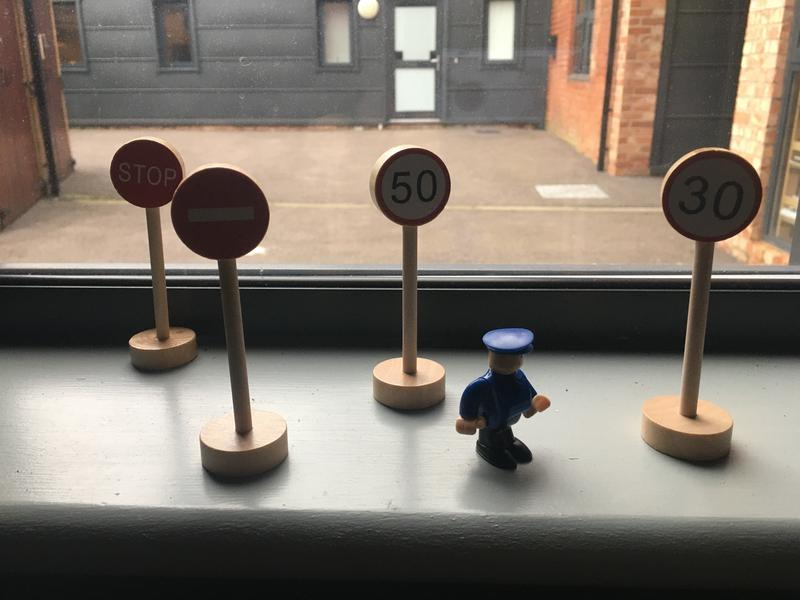Traffic_Sign_30: (664, 152, 760, 240)
Traffic_Sign_50: (374, 147, 450, 227)
Traffic_Sign_No_Entry: (173, 169, 269, 257)
Traffic_Sign_Stop: (107, 143, 182, 206)
person: (455, 322, 553, 475)
